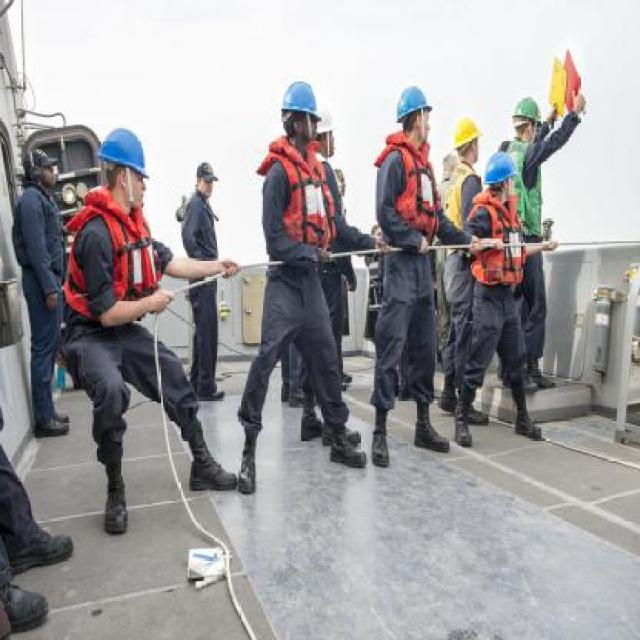Person: (234, 81, 584, 502), (58, 129, 237, 551), (245, 87, 353, 479), (12, 141, 74, 439), (180, 162, 222, 393)
